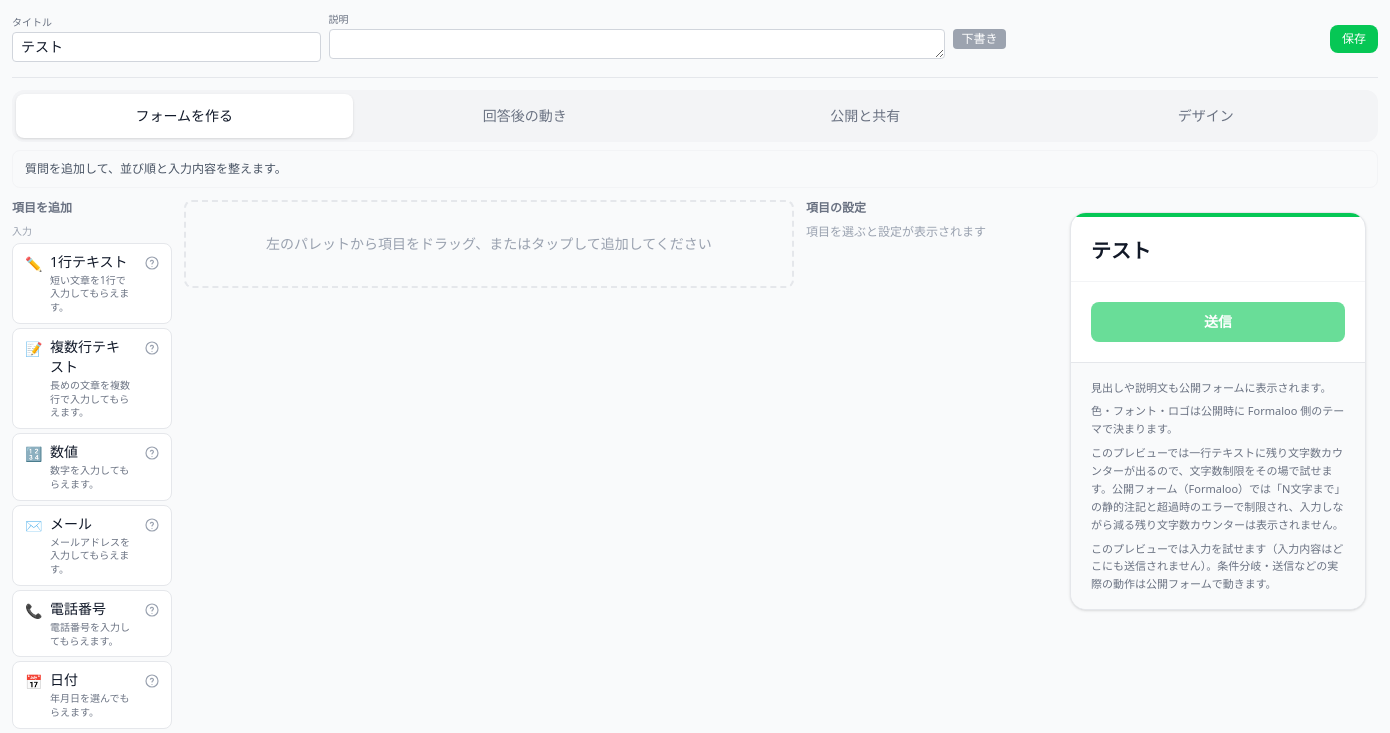
FormBuilder — 配信方式 › defaults to Formaloo and shows the exact beta label
Click the tab "公開と共有" at [865, 116], box [697,94,1034,138]
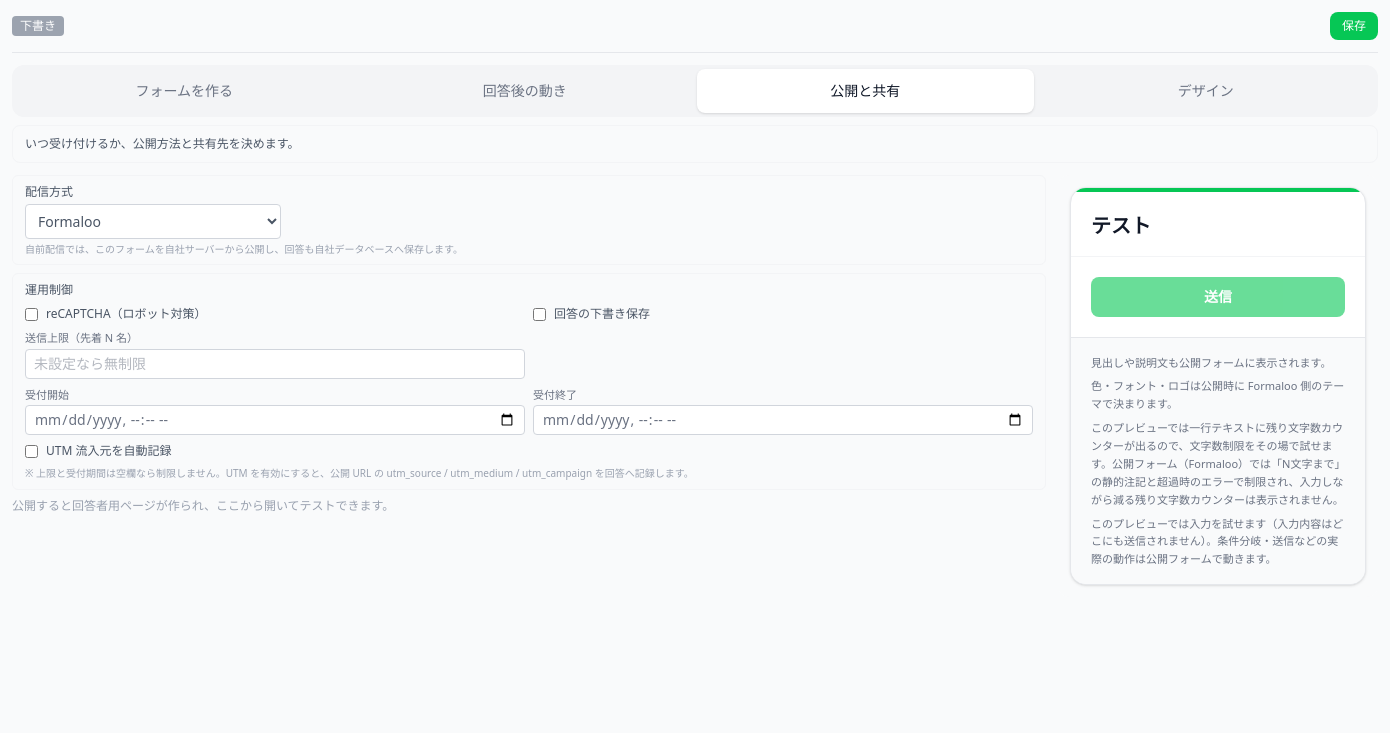
Check: the dropdown labelled "配信方式" shows "Formaloo", box [25,204,281,238]
